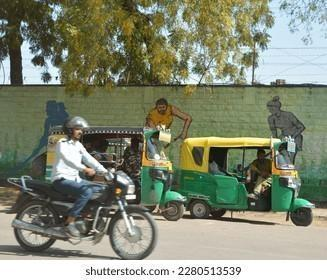keke: (175, 136, 318, 226)
